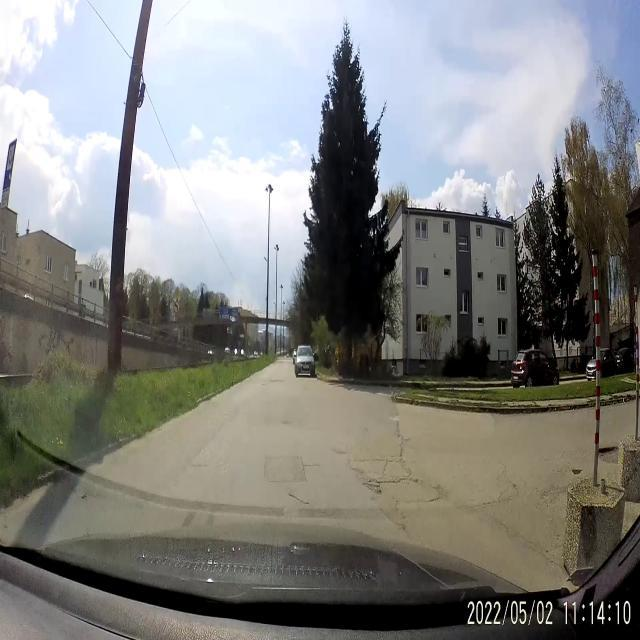Pothole: (359, 464, 414, 494), (598, 440, 620, 468), (286, 492, 314, 512), (569, 466, 585, 475)
